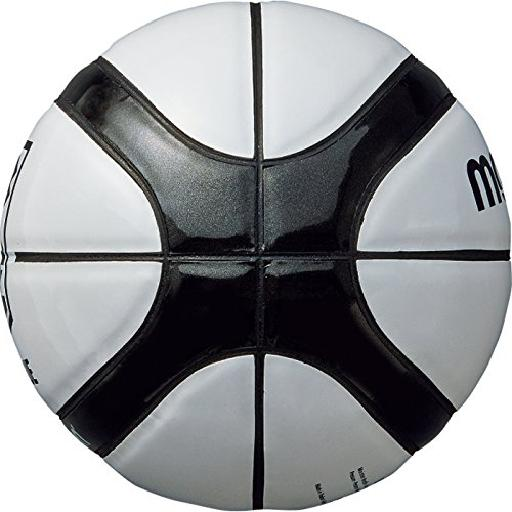ball: (2, 3, 512, 511)
